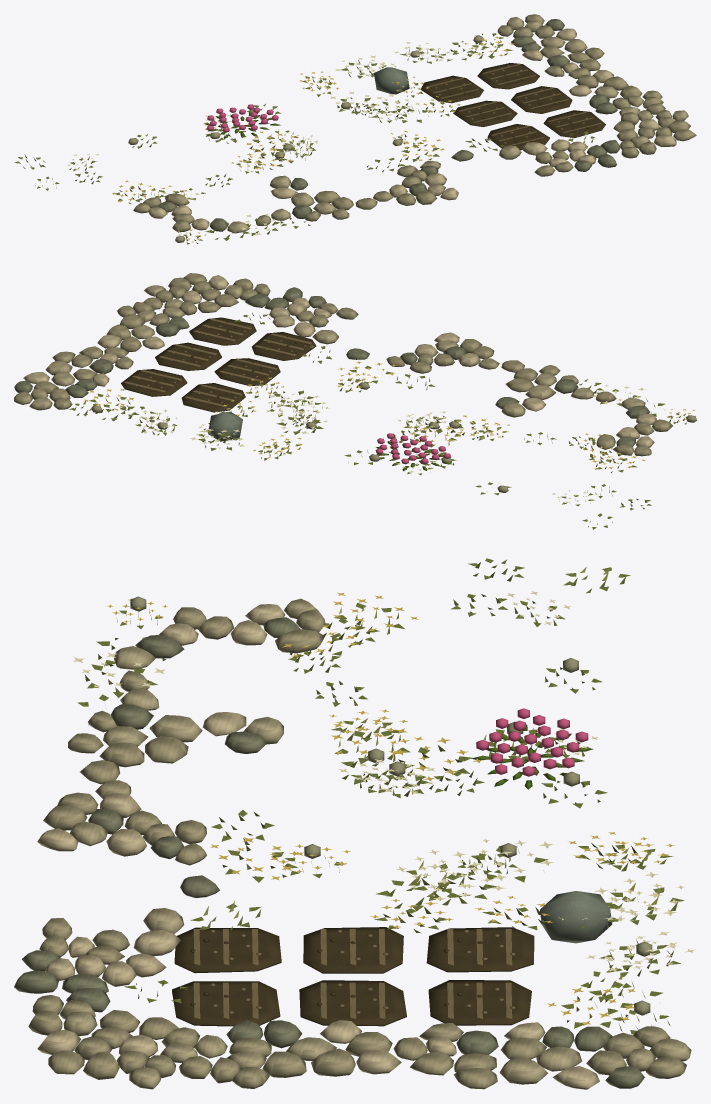
File: detail-patch-04-00.fbx
3 views of the same model, one above another, from view 1: azimuth 30°, elevation 25°; view 2: azimuth 150°, elevation 25°; view 3: azimuth 270°, elevation 25° (orthographic). The views are drawn at different scales.
Parts seen in each view (by area): view 1: detail-patch-04-00__Geometry; view 2: detail-patch-04-00__Geometry; view 3: detail-patch-04-00__Geometry.
Boxes of the visible parts, <box> form: detail-patch-04-00__Geometry: <box>14,14,696,244</box>; detail-patch-04-00__Geometry: <box>14,273,696,529</box>; detail-patch-04-00__Geometry: <box>14,558,695,1089</box>.
Bounding box in the file's own units: 9.94 × 0.4579 × 5.39.
